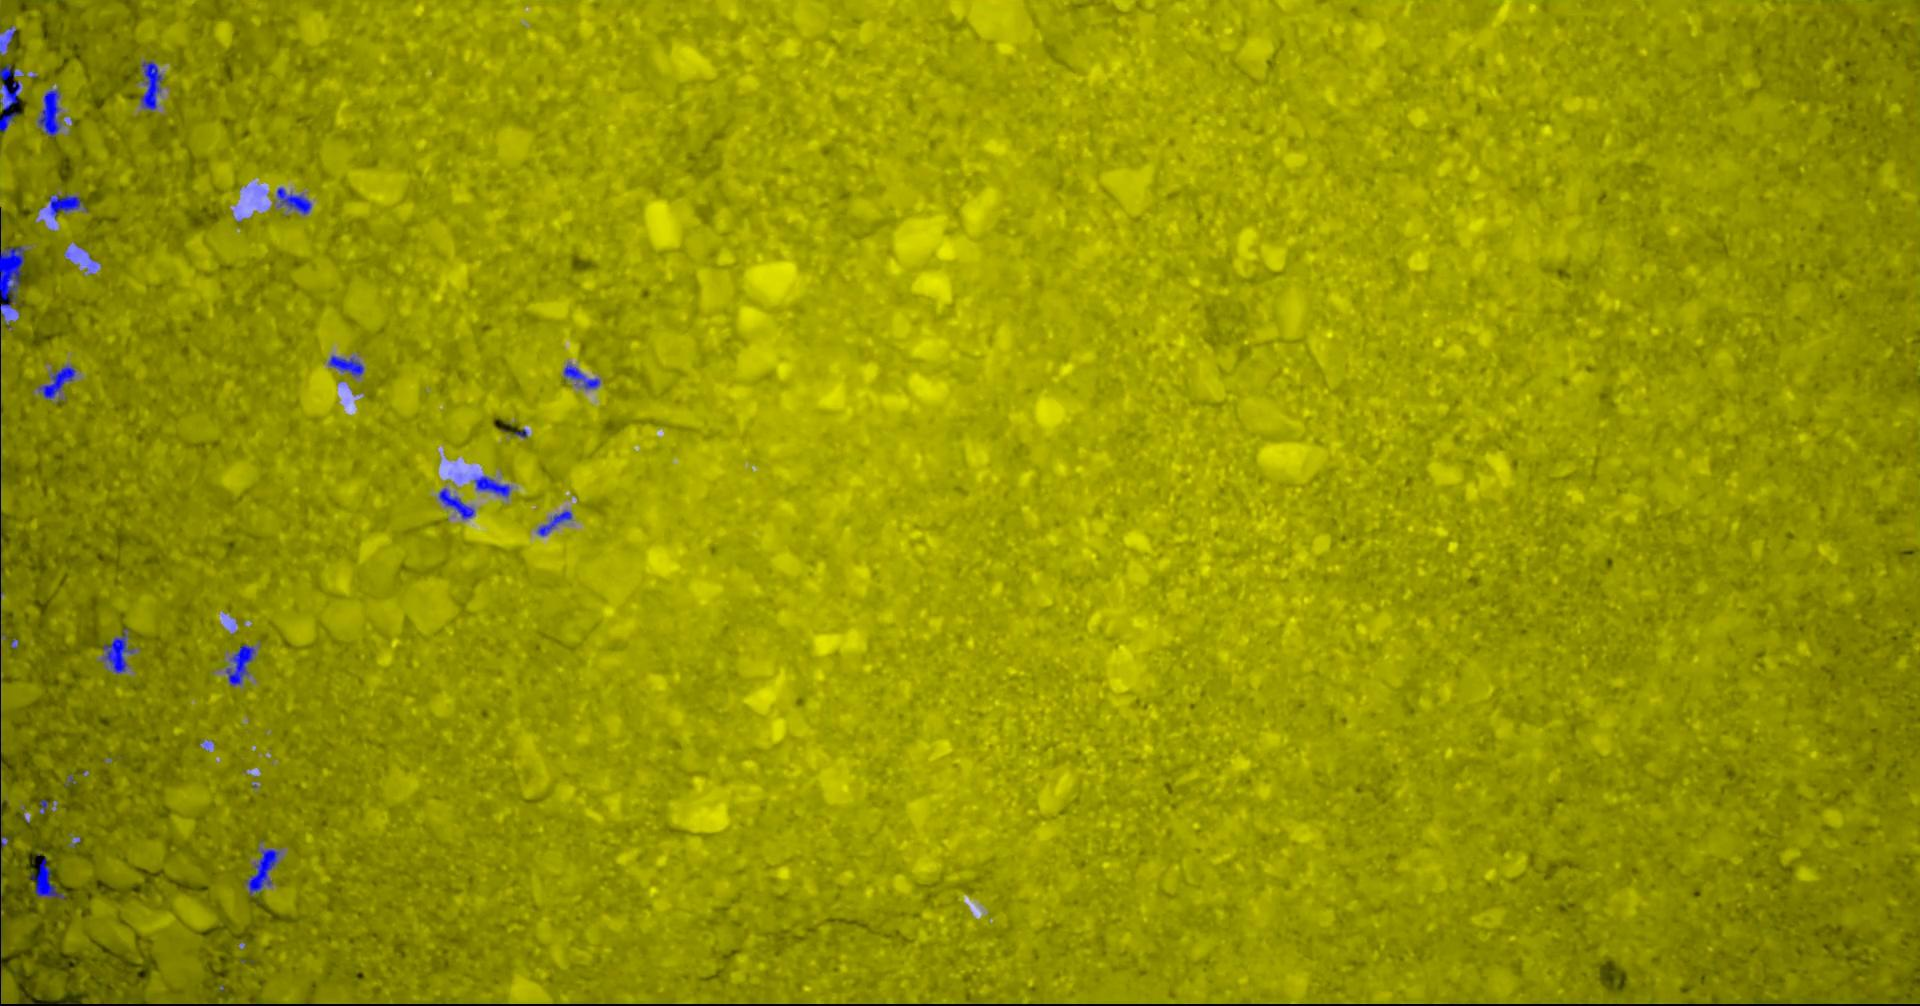ant: (245, 848, 279, 897), (102, 627, 135, 673), (29, 857, 65, 899), (37, 365, 75, 399), (0, 64, 19, 131), (225, 643, 255, 685), (438, 486, 474, 520), (140, 60, 163, 109), (37, 89, 60, 137), (276, 187, 311, 213), (563, 365, 599, 387), (48, 193, 81, 218), (537, 511, 571, 535), (472, 475, 510, 497), (328, 354, 363, 376), (0, 801, 8, 879), (0, 25, 15, 53)
